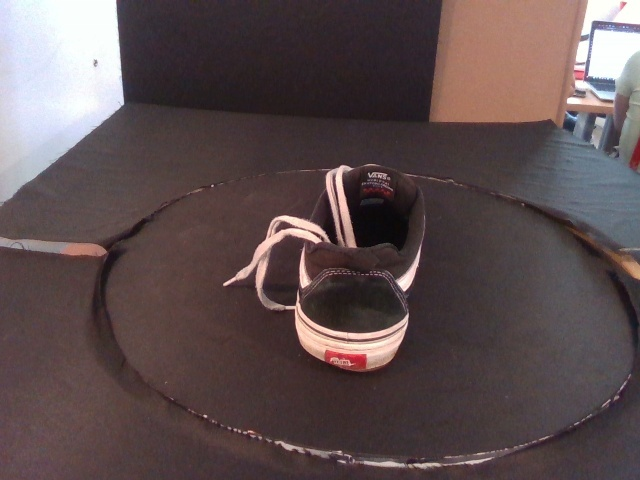shoe: (293, 163, 427, 374)
